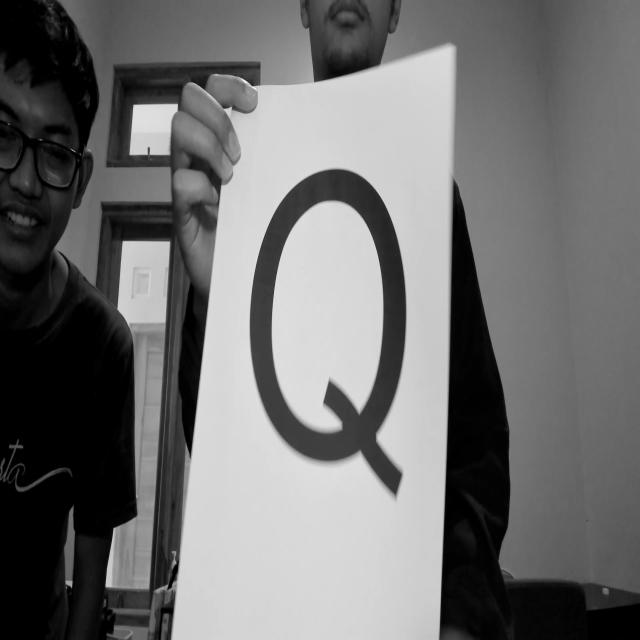q: (241, 150, 429, 511)
